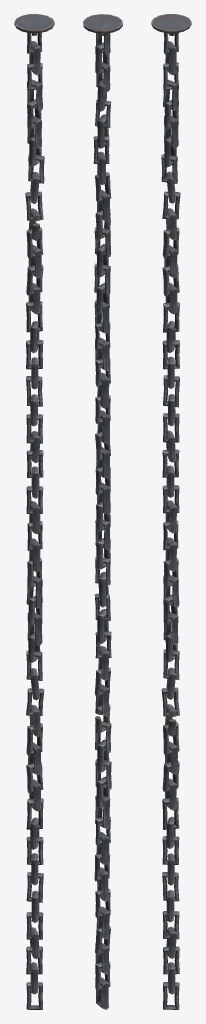
3 renders of one model, left to right at view 1: azimuth 90°, elevation 25°; view 2: azimuth 210°, elevation 25°; view 3: azimuth 270°, elevation 25°, orthographic.
Visible parts, largest first — view 1: SM_Temple_Chandelier_01v5_LOD0; view 2: SM_Temple_Chandelier_01v5_LOD0; view 3: SM_Temple_Chandelier_01v5_LOD0.
Boxes of the visible parts, x1,y1,x2,y2 form: SM_Temple_Chandelier_01v5_LOD0: (14, 14, 54, 1009); SM_Temple_Chandelier_01v5_LOD0: (83, 14, 122, 1009); SM_Temple_Chandelier_01v5_LOD0: (151, 14, 191, 1009).
Bounding box in the file's own units: 0.2896 × 8 × 0.2979.
1 material, 1 textured.
